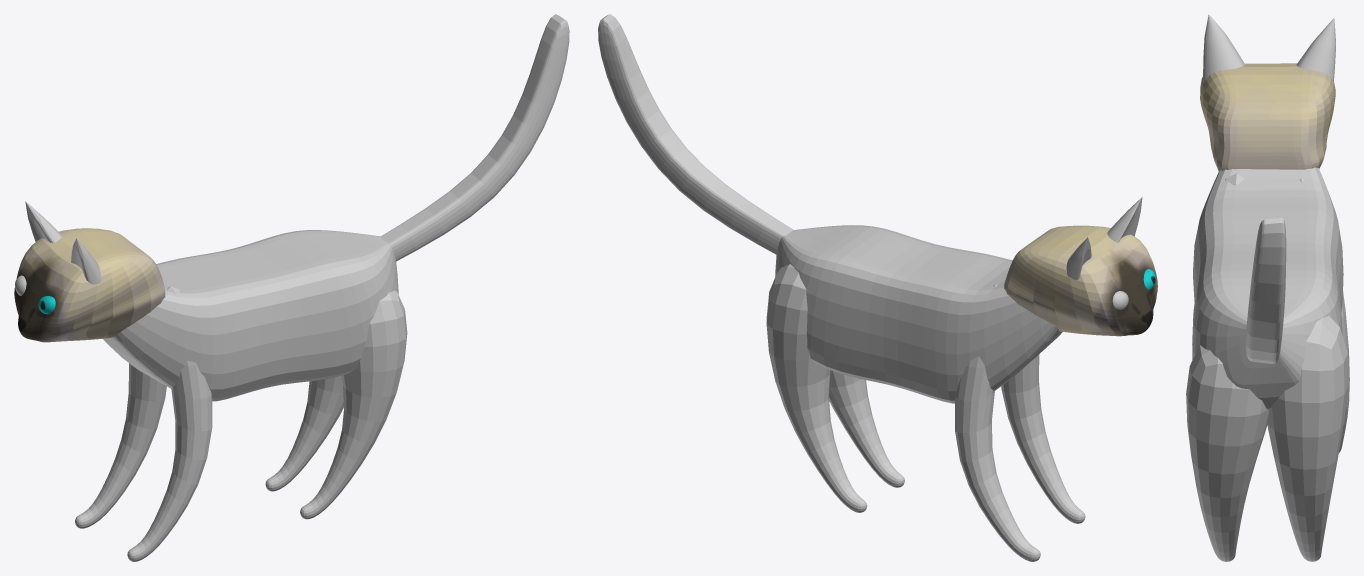
The model's file is cat.obj.
The picture shows the model from 3 angles, left to right: view 1: azimuth 30°, elevation 25°; view 2: azimuth 150°, elevation 25°; view 3: azimuth 270°, elevation 25°; orthographic projection. The views are drawn at different scales.
Visible parts, largest first — view 1: Body_Cube, Head_Cube.010, Tail_Cube.006, LeftHindleg_Cube.002, LeftForeleg_Cube.003, RightForeleg_Cube.004, RightHindleg_Cube.005, LeftEar_Cone.004, RightEar_Cone.003; view 2: Body_Cube, Head_Cube.010, Tail_Cube.006, RightHindleg_Cube.005, RightForeleg_Cube.004, LeftForeleg_Cube.003, LeftHindleg_Cube.002, LeftEar_Cone.004; view 3: Body_Cube, Head_Cube.010, RightHindleg_Cube.005, LeftHindleg_Cube.002, Tail_Cube.006, LeftEar_Cone.004, RightEar_Cone.003, RightForeleg_Cube.004.
Boxes of the visible parts, bbox=[...] form: Body_Cube: bbox=[103, 230, 398, 401]; Head_Cube.010: bbox=[14, 228, 165, 342]; Tail_Cube.006: bbox=[380, 14, 569, 261]; LeftHindleg_Cube.002: bbox=[300, 290, 407, 519]; LeftForeleg_Cube.003: bbox=[127, 286, 212, 561]; RightForeleg_Cube.004: bbox=[75, 363, 166, 528]; RightHindleg_Cube.005: bbox=[265, 376, 343, 491]; LeftEar_Cone.004: bbox=[71, 238, 101, 284]; RightEar_Cone.003: bbox=[25, 201, 61, 242]; Body_Cube: bbox=[775, 225, 1062, 403]; Head_Cube.010: bbox=[1004, 225, 1157, 336]; Tail_Cube.006: bbox=[598, 14, 793, 254]; RightHindleg_Cube.005: bbox=[766, 264, 867, 512]; RightForeleg_Cube.004: bbox=[955, 284, 1040, 561]; LeftForeleg_Cube.003: bbox=[1001, 354, 1085, 523]; LeftHindleg_Cube.002: bbox=[829, 370, 904, 487]; LeftEar_Cone.004: bbox=[1107, 197, 1142, 242]; Body_Cube: bbox=[1192, 167, 1343, 410]; Head_Cube.010: bbox=[1200, 63, 1335, 171]; RightHindleg_Cube.005: bbox=[1267, 316, 1348, 561]; LeftHindleg_Cube.002: bbox=[1186, 345, 1268, 561]; Tail_Cube.006: bbox=[1245, 217, 1286, 363]; LeftEar_Cone.004: bbox=[1203, 14, 1245, 83]; RightEar_Cone.003: bbox=[1296, 18, 1335, 81]; RightForeleg_Cube.004: bbox=[1299, 178, 1349, 453].
Bounding box in the file's own units: 6.55 × 4.81 × 1.43.
